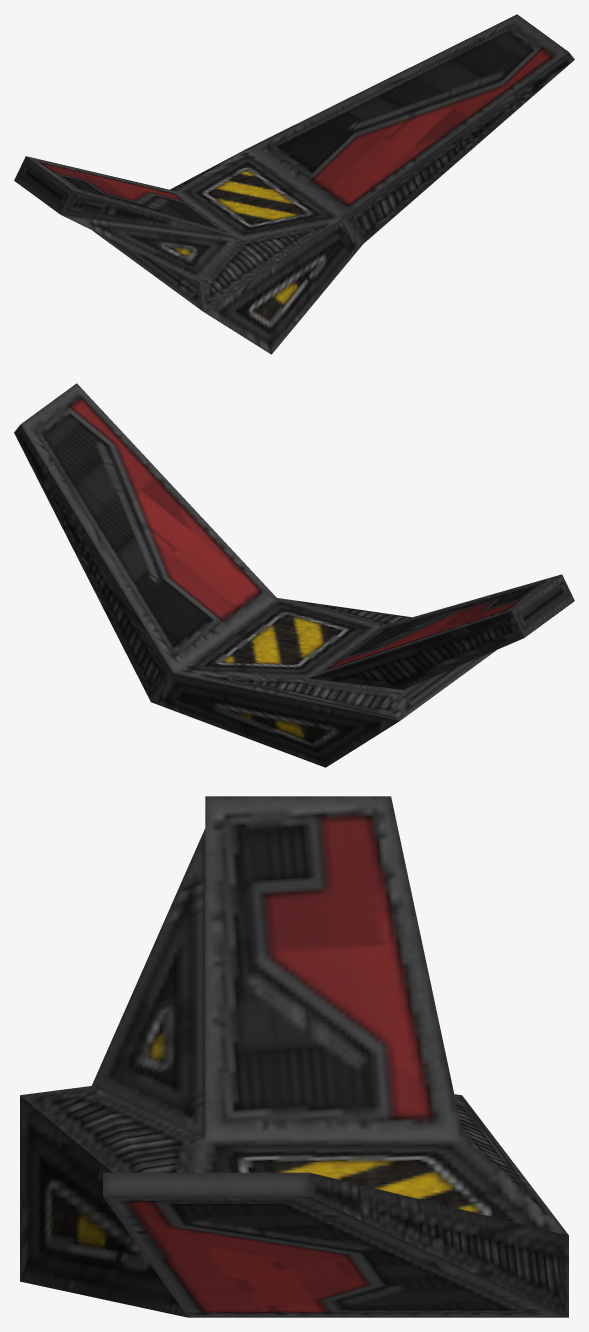
Rendered from BFP_ConstTailFin01_UL.FBX.
The picture shows the model from 3 angles, top to bottom: view 1: azimuth 30°, elevation 25°; view 2: azimuth 150°, elevation 25°; view 3: azimuth 270°, elevation 25°; orthographic projection. The views are drawn at different scales.
Parts seen in each view (by area): view 1: BFP_ConstTailFin01_UL; view 2: BFP_ConstTailFin01_UL; view 3: BFP_ConstTailFin01_UL.
Part boxes in pixels (x1,y1,x2,y2): BFP_ConstTailFin01_UL: [14, 14, 574, 354]; BFP_ConstTailFin01_UL: [14, 383, 574, 767]; BFP_ConstTailFin01_UL: [20, 796, 568, 1317].
Bounding box in the file's own units: 195 × 80.04 × 94.96.
Materials: 1 (1 with a texture image).
